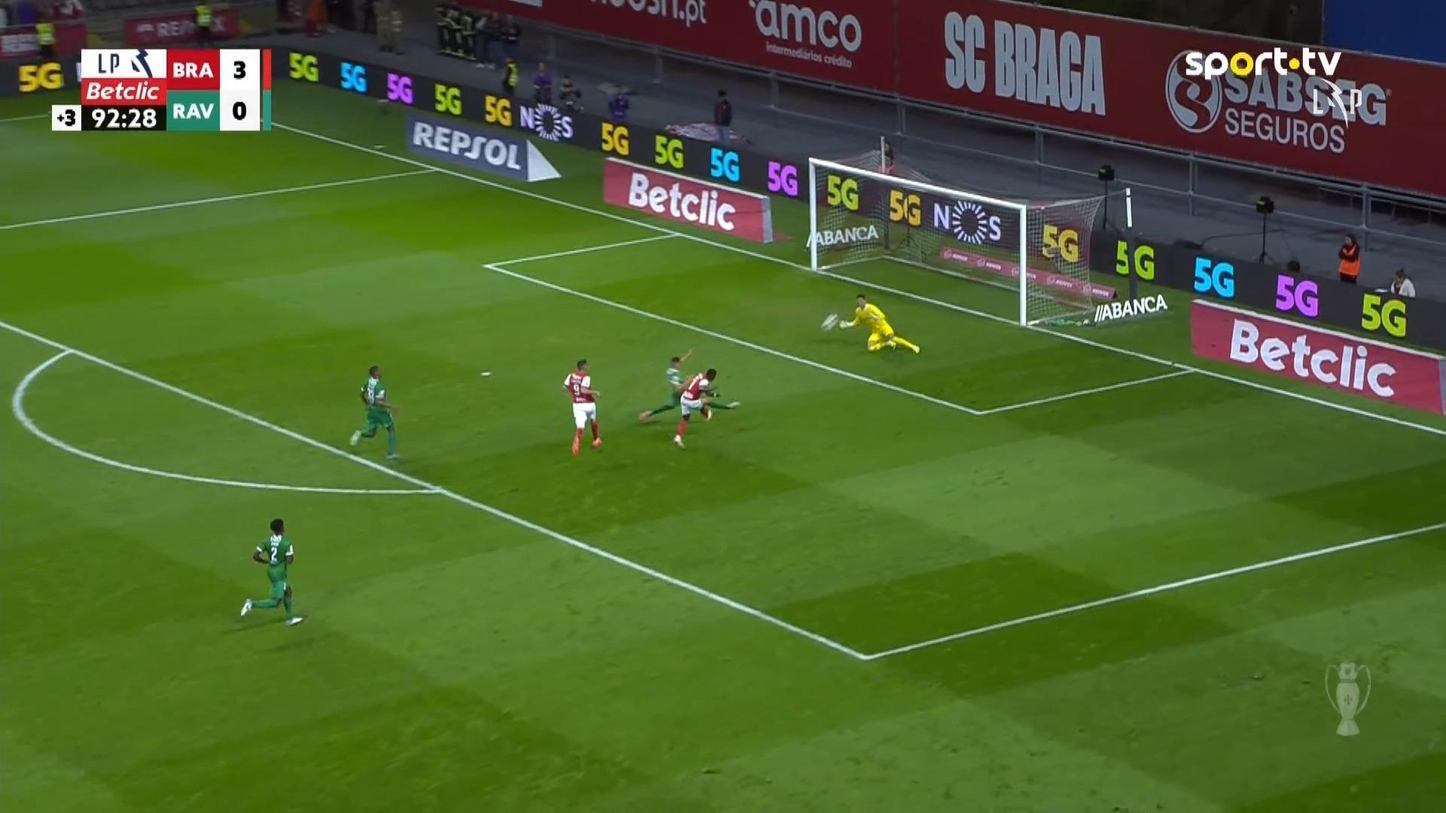ball: (820, 312, 839, 330)
goalkeeper: (821, 292, 920, 355)
player: (239, 517, 306, 626), (348, 364, 400, 460), (638, 347, 695, 423), (561, 358, 602, 455), (672, 367, 719, 448)
